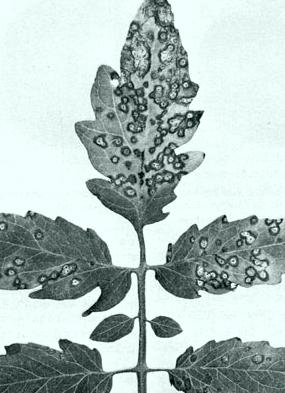Tomato Septoria leaf spot: (76, 0, 209, 226), (0, 198, 132, 314), (150, 214, 285, 299), (171, 330, 285, 393), (0, 335, 117, 393)
